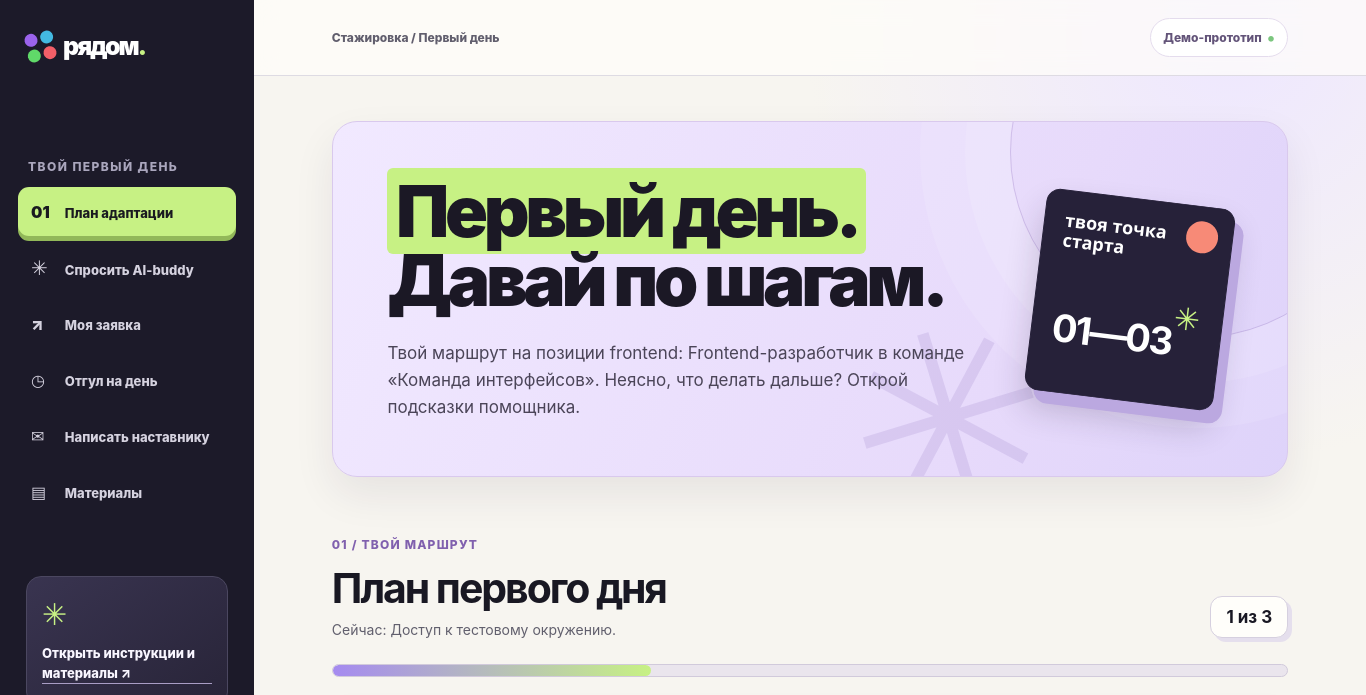
Test: shows only assigned-role materials and separates public links from instructions
The image size is (1366, 695).
Click the button "▤ Материалы" at (127, 492), box [18,467,236,516]
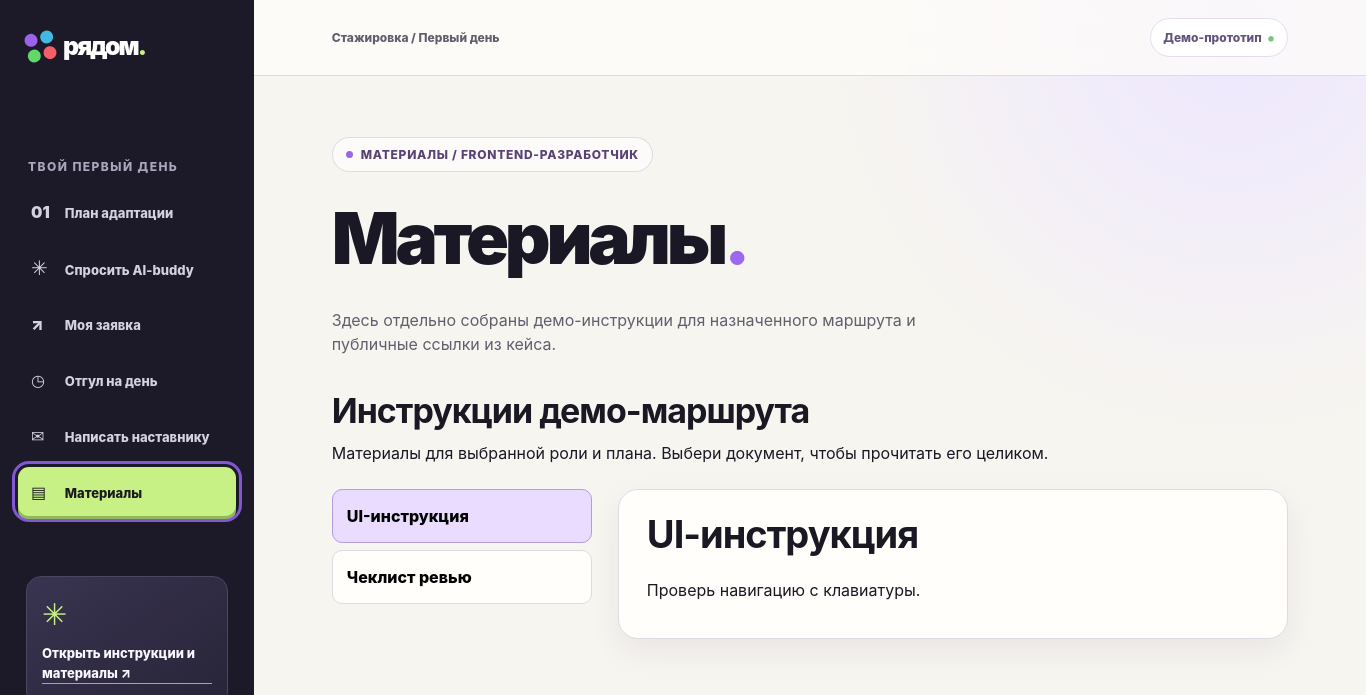
Result: the heading "UI-инструкция" is shown at [647,511,918,557]
Result: the text "Проверь навигацию с клавиатуры." is shown at [647,580,920,600]
Result: the text "Материалы / Frontend-разработчик" is shown at [332,137,653,172]
Click the button "Чеклист ревью" at (462, 577), box [332,550,592,604]
(page scrolled)
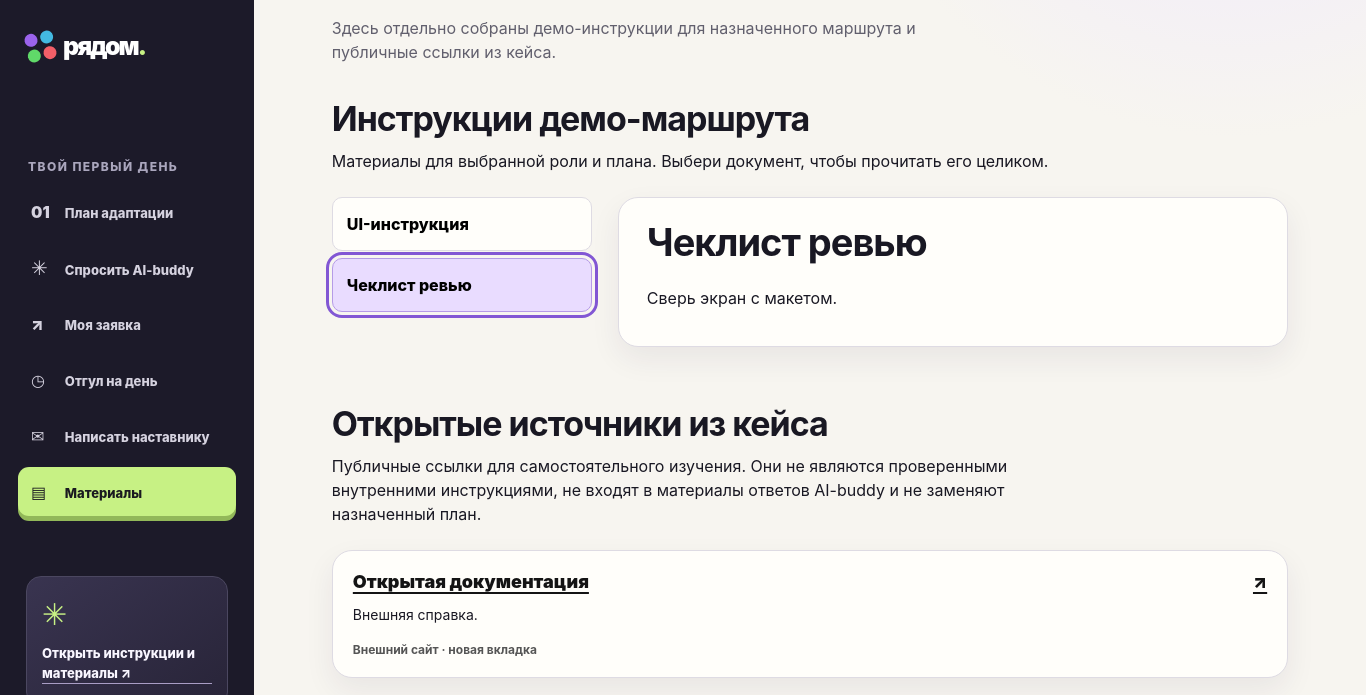
Result: the text "Сверь экран с макетом." is shown at [647,288,837,308]
Result: the text "Проверь навигацию с клавиатуры." is gone
